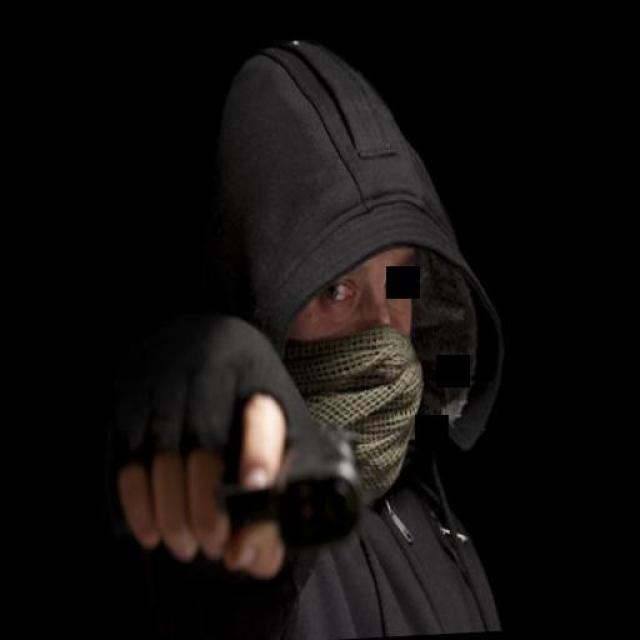gun: (208, 418, 362, 554)
